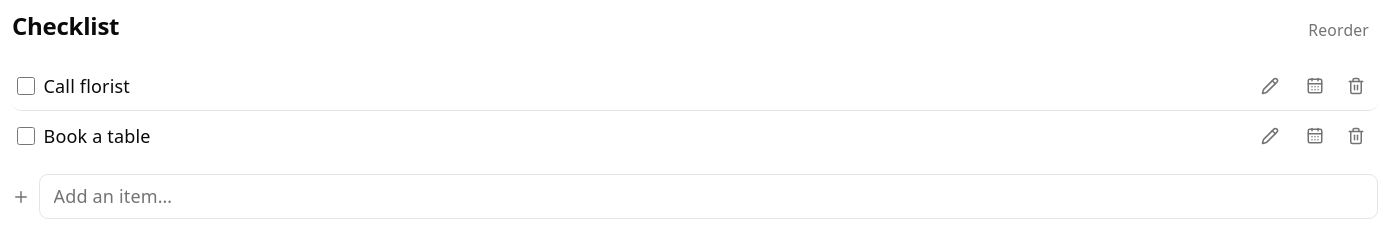
ChecklistSection › locks all checklist item mutations while a reorder draft is dirty
Click the button with aria-label "Reorder checklist".
click(1339, 30)  # box left=1299, top=14, right=1378, bottom=46
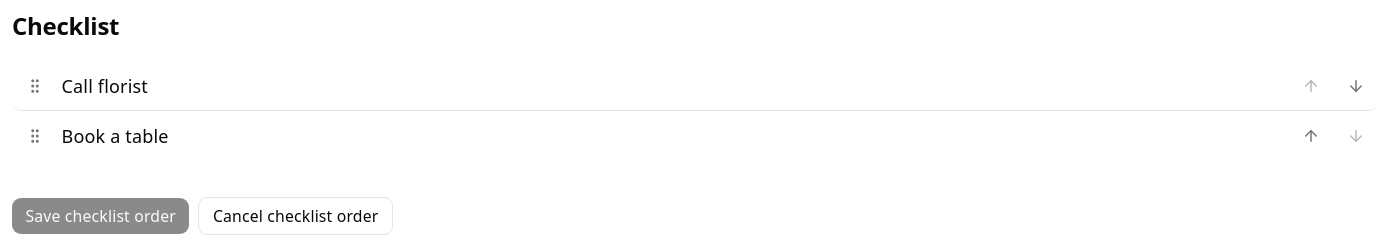
Click the button named "Move Book a table up".
click(1310, 136)  # box left=1292, top=118, right=1328, bottom=154
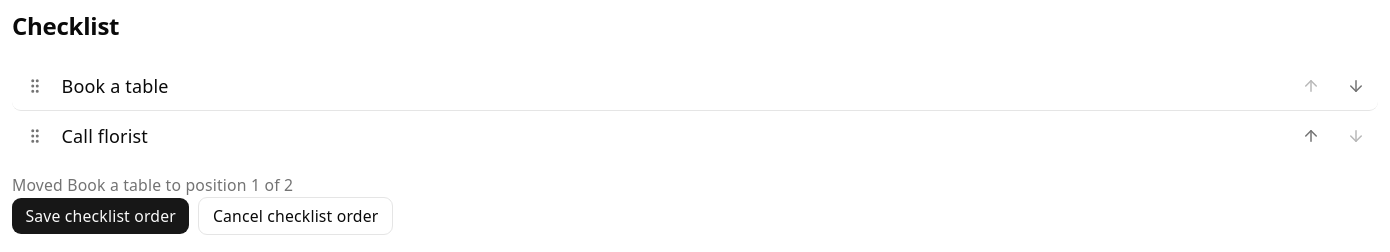
Now the button "Save checklist order" is enabled, box left=12, top=198, right=190, bottom=234
